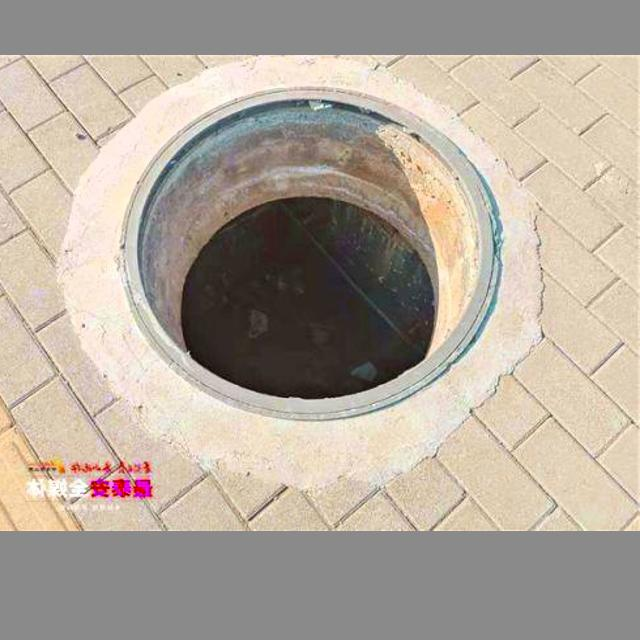lose: (61, 65, 532, 459)
